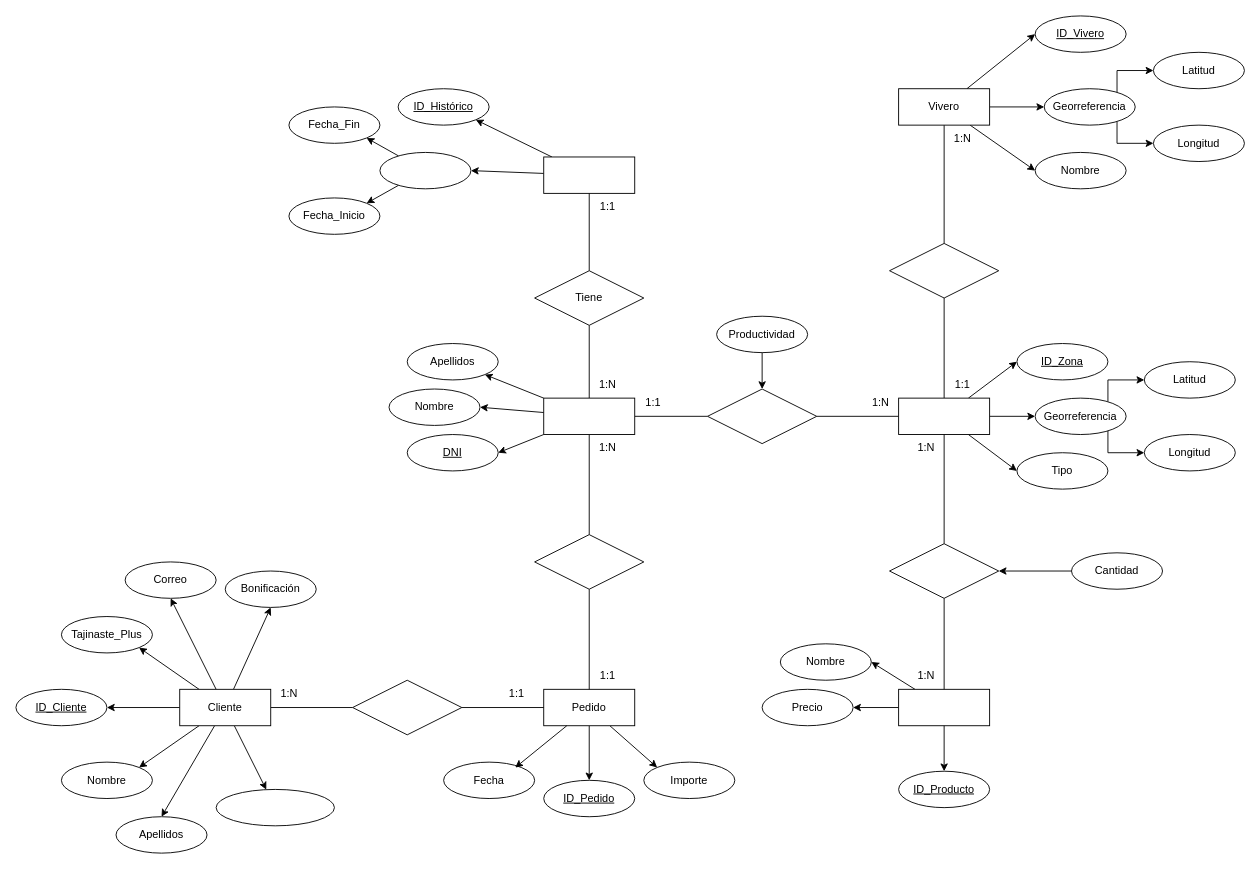
This 1260x869 diagram has some shape labels left out. The shapes that lost their labels are listed below. From the top down, each one's centre as x and y in pixels, then its label:
At (425,170): "Periodo".
At (589,174): "Histórico Trabajo".
At (944,270): "Integra".
At (589,416): "Empleado".
At (762,416): "Trabaja".
At (944,416): "Zona".
At (589,561): "Es Responsable".
At (944,570): "Contiene".
At (407,707): "Realiza".
At (944,707): "Producto".
At (274,807): "Volumen_Compras".
